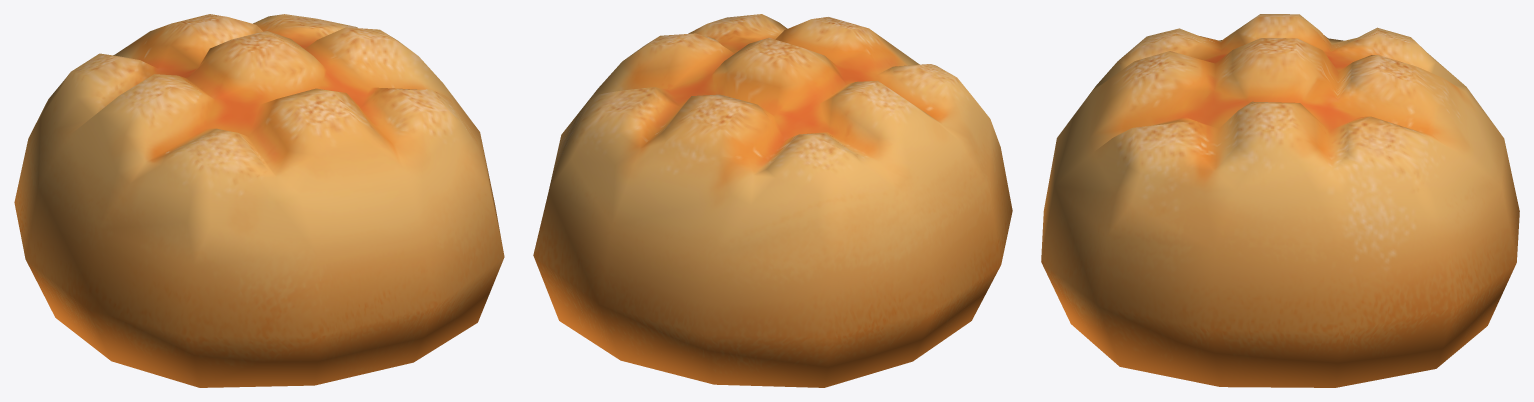
Rendered from Melon.fbx.
3 views of the same model, side by side, from view 1: azimuth 30°, elevation 25°; view 2: azimuth 150°, elevation 25°; view 3: azimuth 270°, elevation 25° (orthographic). The views are drawn at different scales.
Parts seen in each view (by area): view 1: Melon; view 2: Melon; view 3: Melon.
Boxes of the visible parts, box(x1,y1,x2,y2) form: Melon: box(14, 14, 504, 387); Melon: box(533, 14, 1012, 387); Melon: box(1041, 14, 1519, 387).
Bounding box in the file's own units: 41.05 × 27.6 × 42.43.
